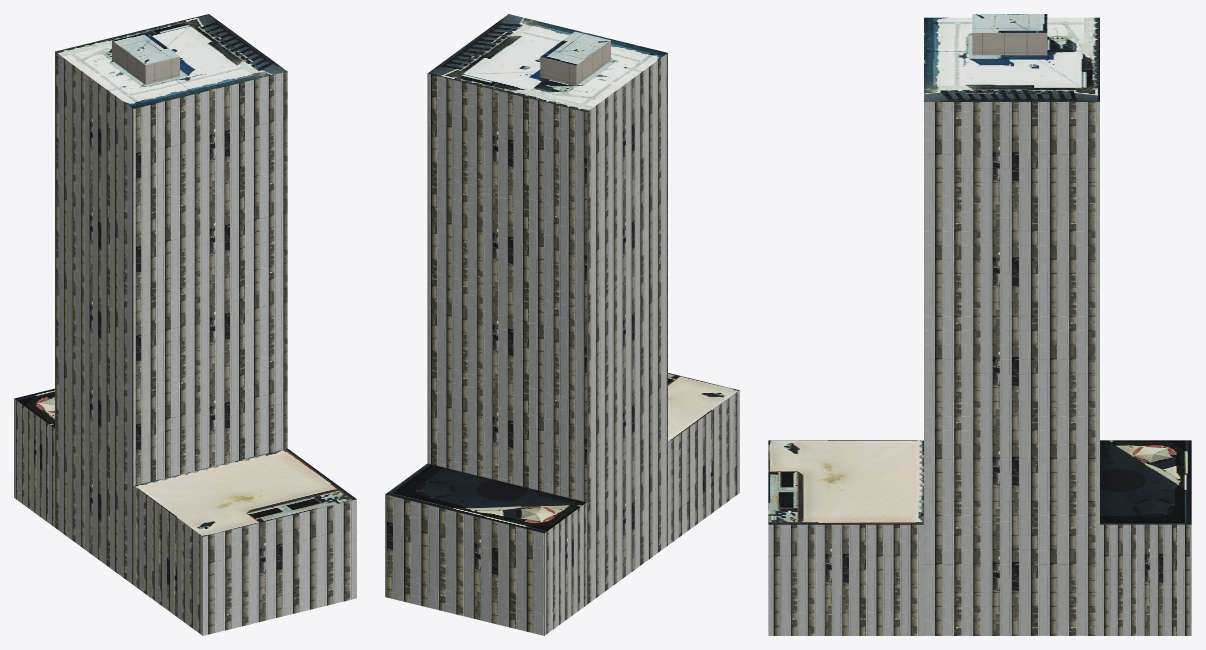
File: Highrise6.gltf
3 renders of one model, left to right at view 1: azimuth 30°, elevation 25°; view 2: azimuth 150°, elevation 25°; view 3: azimuth 270°, elevation 25°, orthographic. The views are drawn at different scales.
Visible parts, largest first — view 1: Highrise6; view 2: Highrise6; view 3: Highrise6.
Boxes of the visible parts, bbox=[...] form: Highrise6: bbox=[14, 14, 356, 635]; Highrise6: bbox=[385, 14, 739, 635]; Highrise6: bbox=[768, 14, 1191, 635].
Bounding box in the file's own units: 40.64 × 125 × 86.25.
Materials: 1 (1 with a texture image).
